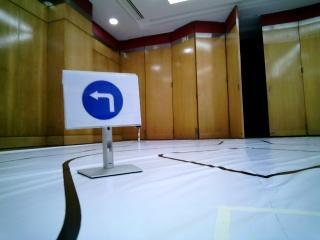left: (76, 76, 130, 120)
